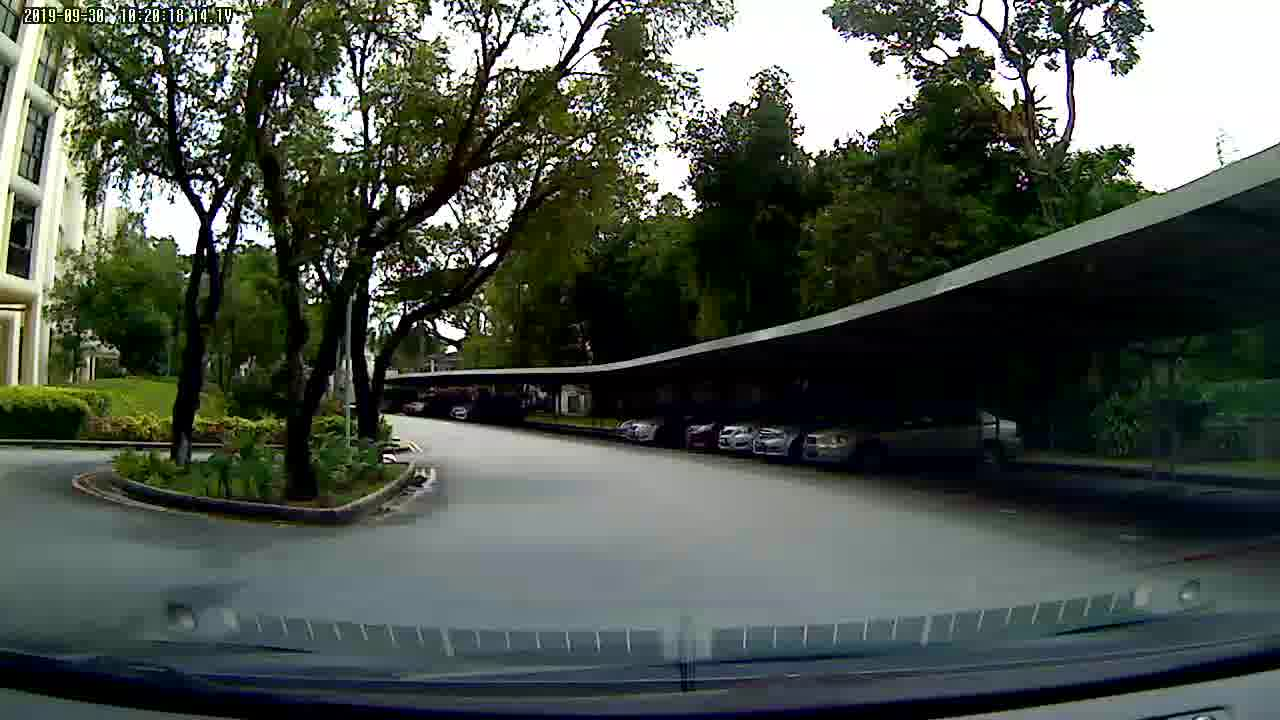car: (608, 411, 1022, 478)
